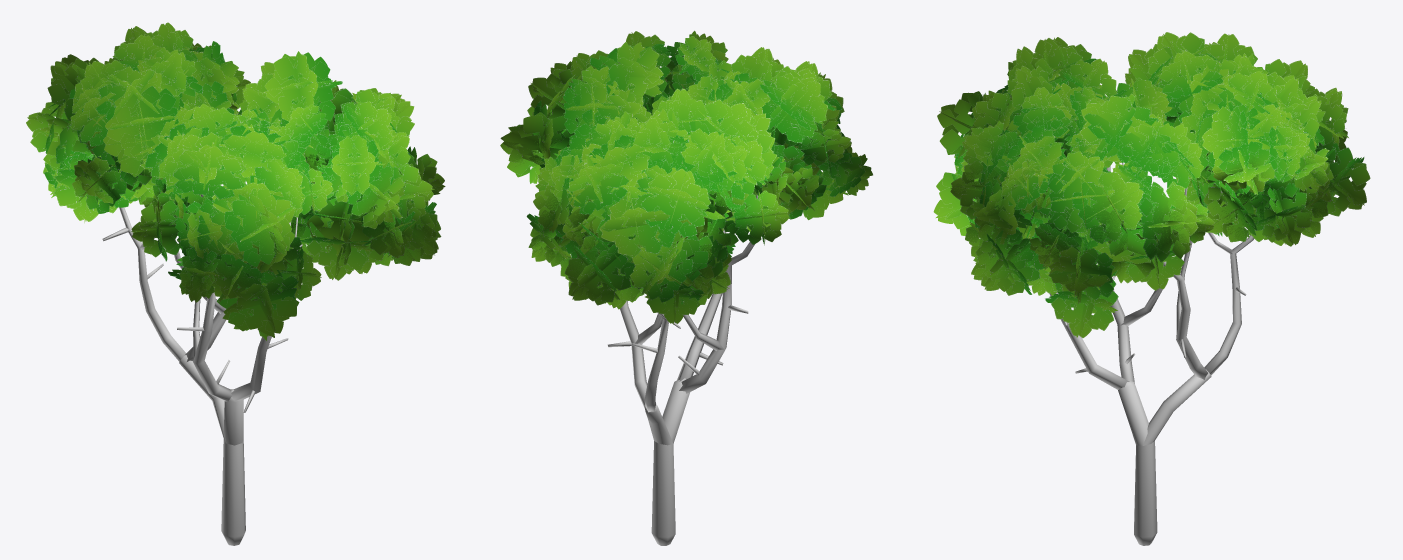
The model's file is TSP_Tree_04C.fbx.
3 views of the same model, side by side, from view 1: azimuth 30°, elevation 25°; view 2: azimuth 150°, elevation 25°; view 3: azimuth 270°, elevation 25° (orthographic). The views are drawn at different scales.
Visible parts, largest first — view 1: TSP_Tree_04C; view 2: TSP_Tree_04C; view 3: TSP_Tree_04C.
Boxes of the visible parts, box(x1,y1,x2,y2) form: TSP_Tree_04C: box(26, 22, 445, 545); TSP_Tree_04C: box(500, 30, 872, 545); TSP_Tree_04C: box(933, 32, 1370, 545).
Bounding box in the file's own units: 7.74 × 11.19 × 9.76.
